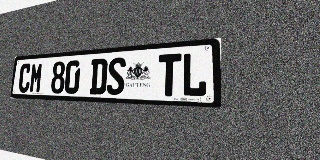0: (64, 60, 81, 94)
8: (50, 61, 66, 94)
C: (18, 63, 32, 93)
D: (89, 58, 108, 95)
L: (181, 52, 207, 97)
M: (29, 62, 43, 93)
S: (106, 57, 126, 95)
T: (157, 53, 181, 97)
